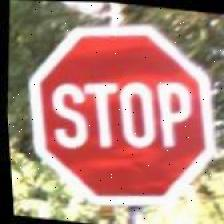Stop: (12, 11, 224, 217)
